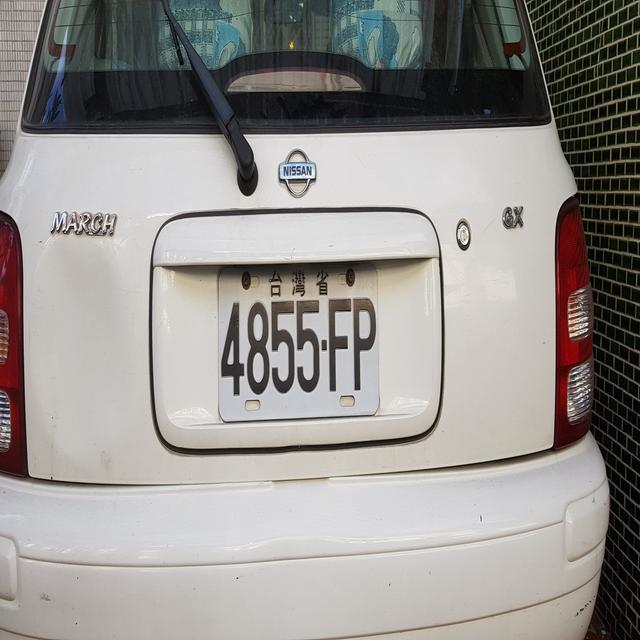license: (217, 291, 379, 399)
